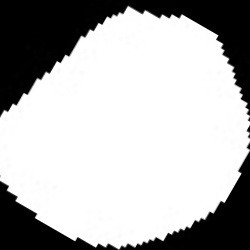spot: (2, 9, 248, 246)
